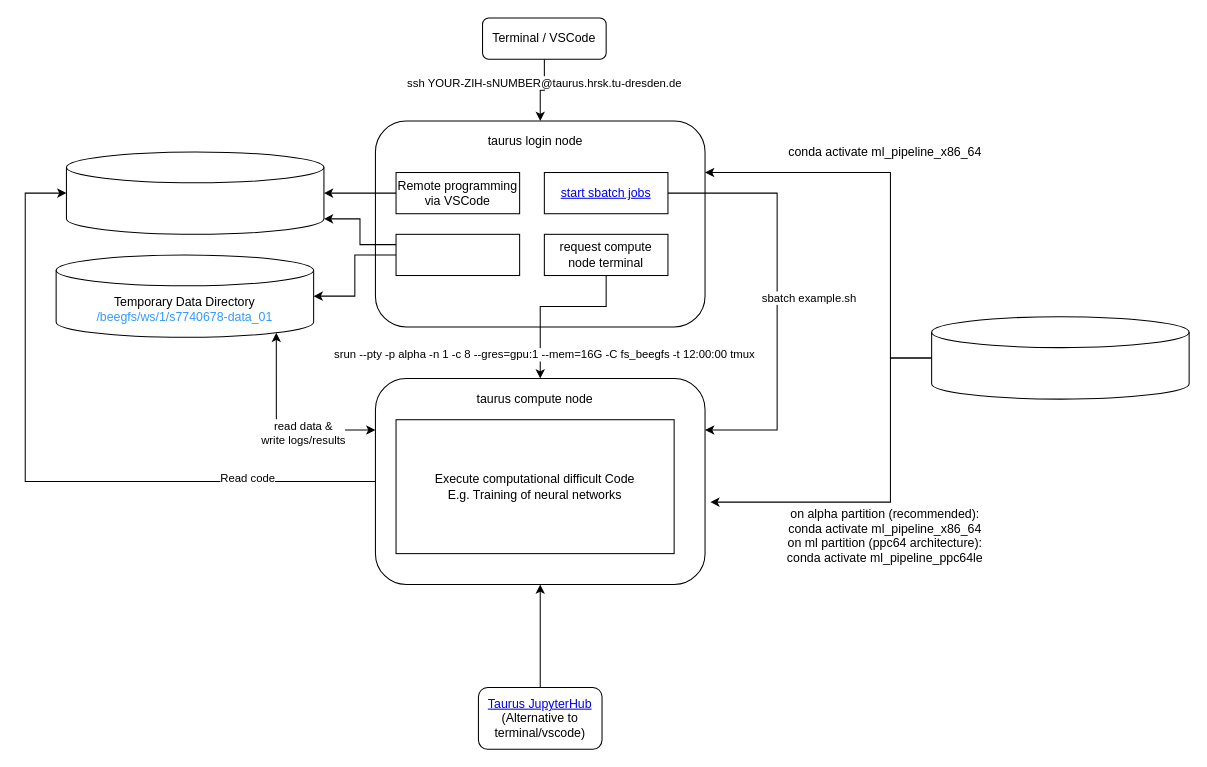
Image size: 1207x767. Some labels were removed from this diagram. The centre of each missing label's shape, as x and y in pixels:
Condahome Directory /beegfs/ws/1/s7740678-condahome_01: (1060,357)
Project Code Directory /projects/p_ai4hematology/code/: (194,192)
Upload files: (457,254)
